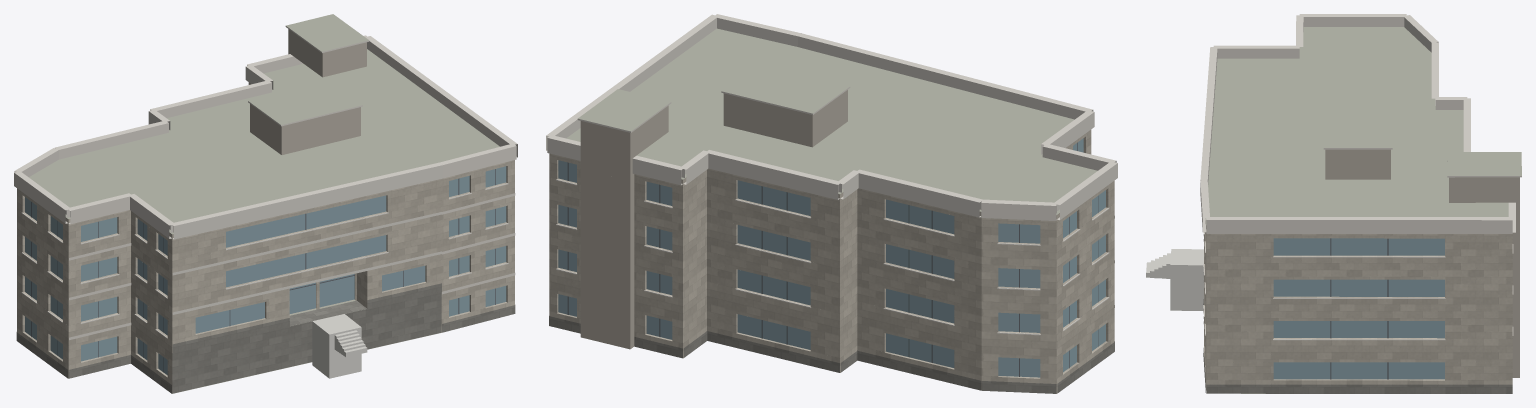
3 views of the same model, side by side, from view 1: azimuth 30°, elevation 25°; view 2: azimuth 150°, elevation 25°; view 3: azimuth 270°, elevation 25° (orthographic). The views are drawn at different scales.
Visible parts, largest first — view 1: b51__wall, b51__roof, b51__trim, b51__glass, b51__base, b51__wall2, b51__entranceStair, b51__frame; view 2: b51__wall, b51__roof, b51__trim, b51__glass, b51__wall2, b51__base, b51__frame; view 3: b51__roof, b51__wall, b51__trim, b51__glass, b51__wall2, b51__base, b51__entranceStair.
Part boxes in pixels (x1,y1,x2,y2): b51__wall: (17,82,514,393); b51__roof: (29,14,499,393); b51__trim: (14,26,517,340); b51__glass: (25,166,506,375); b51__base: (16,283,515,393); b51__wall2: (250,29,366,154); b51__entranceStair: (312,314,367,378); b51__frame: (31,169,495,372); b51__wall: (549,130,1114,393); b51__roof: (566,28,1097,214); b51__trim: (546,14,1117,335); b51__glass: (558,138,1105,377); b51__wall2: (580,90,847,349); b51__base: (549,316,1114,393); b51__frame: (567,142,1098,376); b51__roof: (1205,27,1521,393); b51__wall: (1204,220,1512,389); b51__trim: (1200,14,1521,349); b51__glass: (1273,238,1444,379); b51__wall2: (1325,149,1519,377); b51__base: (1203,299,1512,393); b51__entranceStair: (1146,249,1203,310).
Size of the model in its own units: 38.56 by 17.97 by 29.7.
9 materials, 2 textured.
